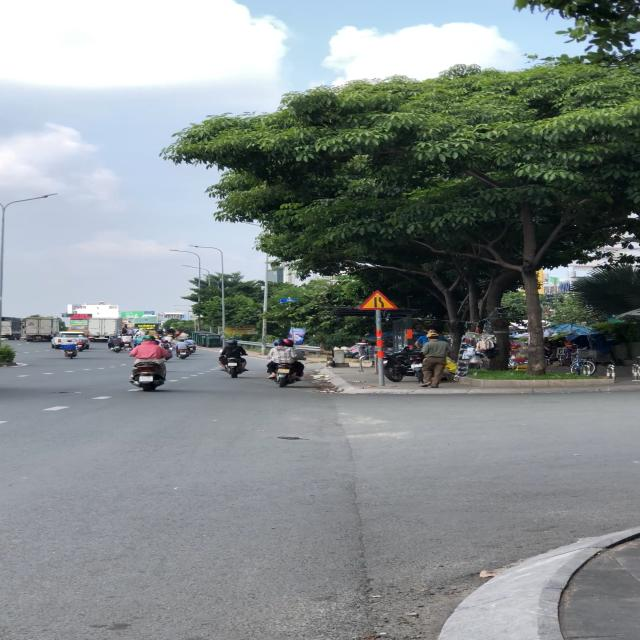Bien bao duong bi thu hep: (356, 288, 399, 310)
